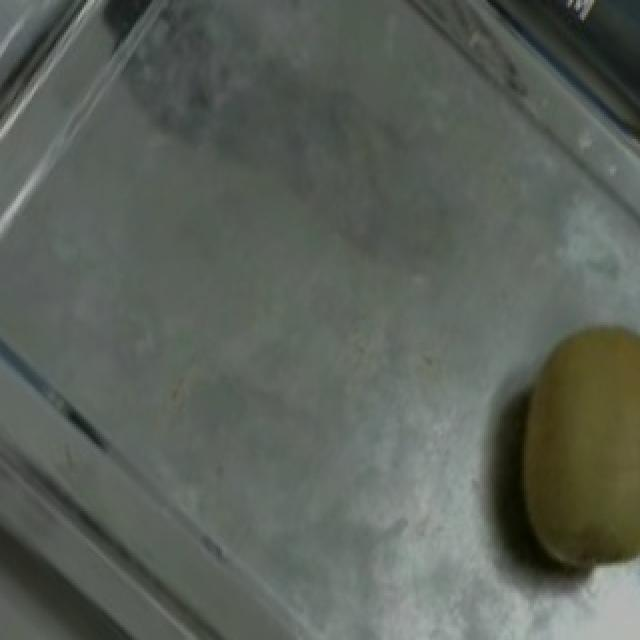Fruit: (470, 300, 640, 600)
